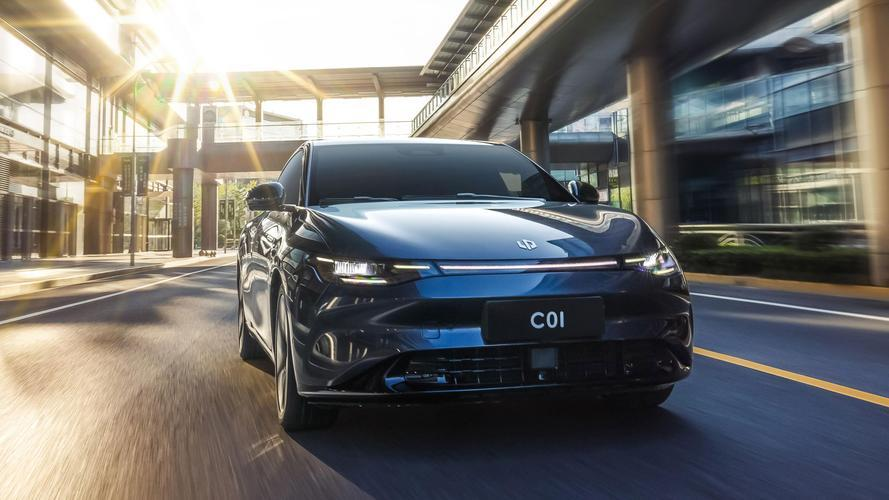LEAPMOTOR: (516, 238, 537, 251)
